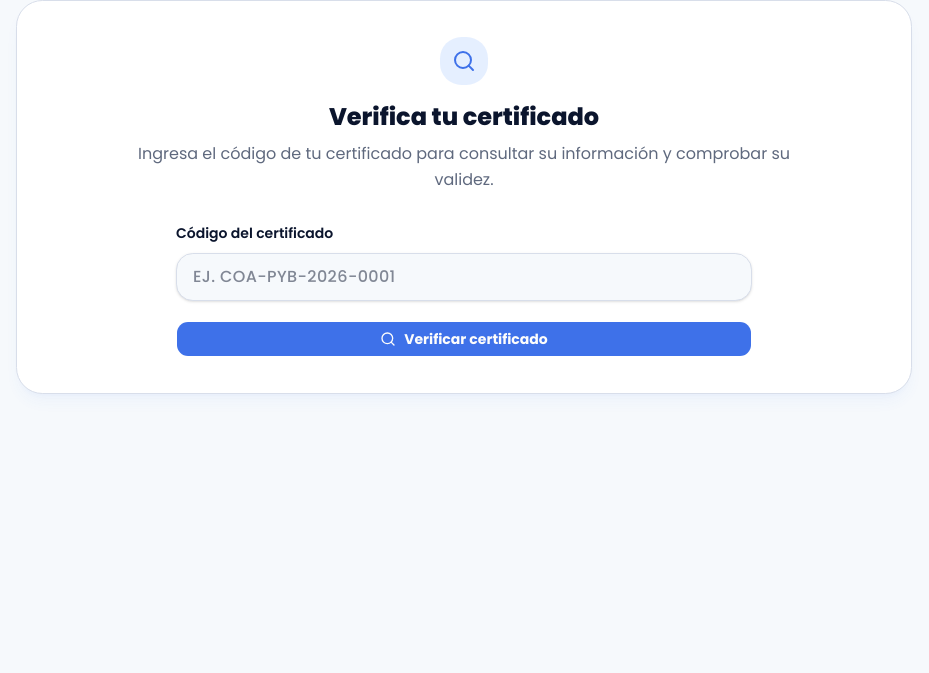
Test: validates empty input and preserves an unknown code
The width and height of the screenshot is (929, 673).
Click the button "Verificar certificado": (464, 339) [176,321,752,357]
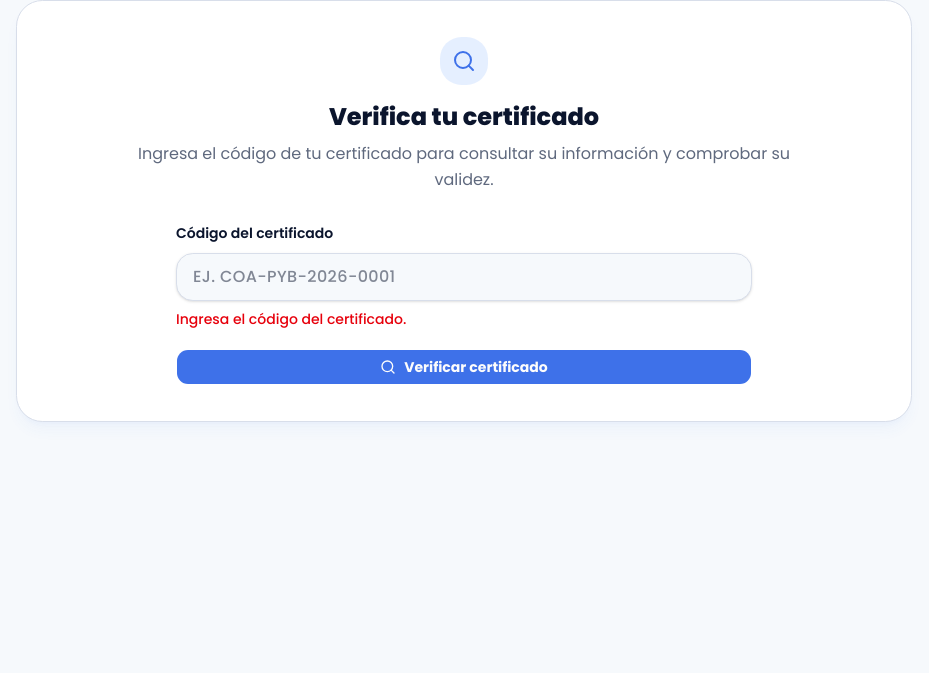
Expected: the message shows "Ingresa el código", [176,309,406,329]
In the field labelled "Código del certificado": (464, 277) [176,253,752,301], type "  desconocido-1  "
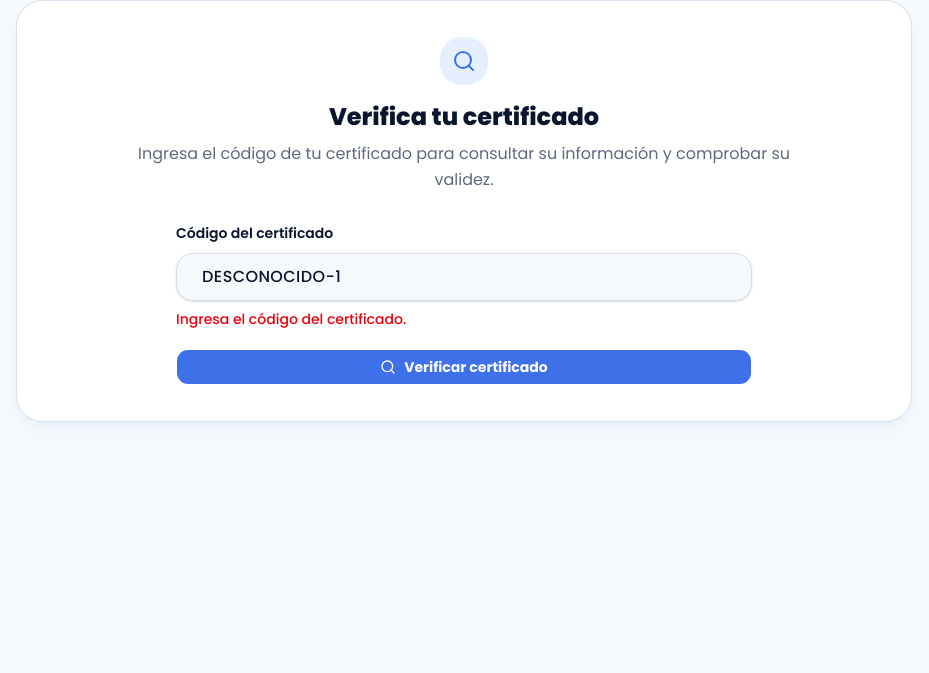
Click the button "Verificar certificado": (464, 367) [176,349,752,385]
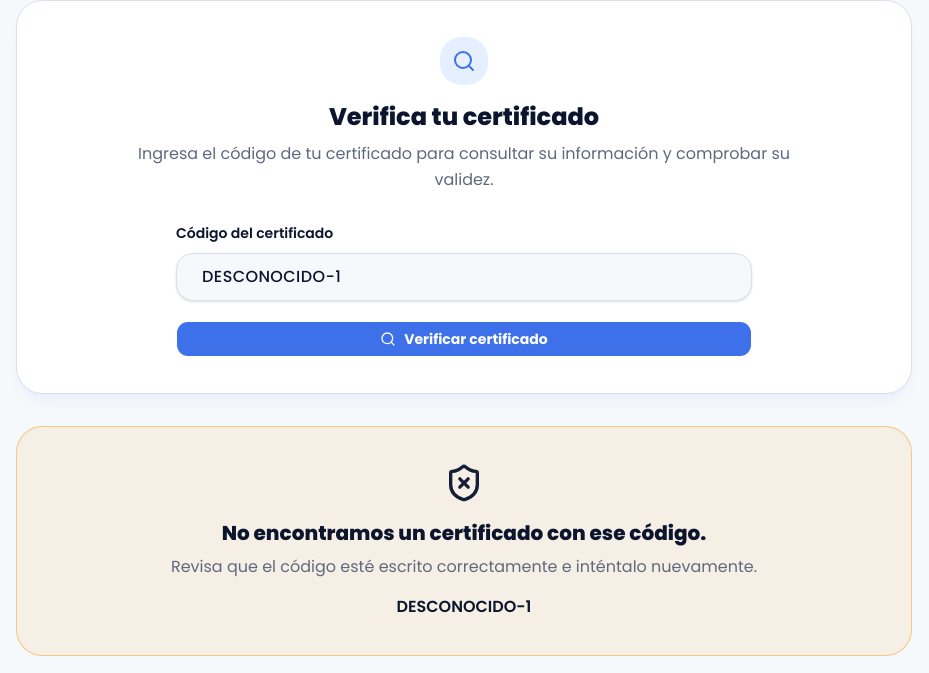
Expected: the message shows "No encontramos", [222,519,706,547]
